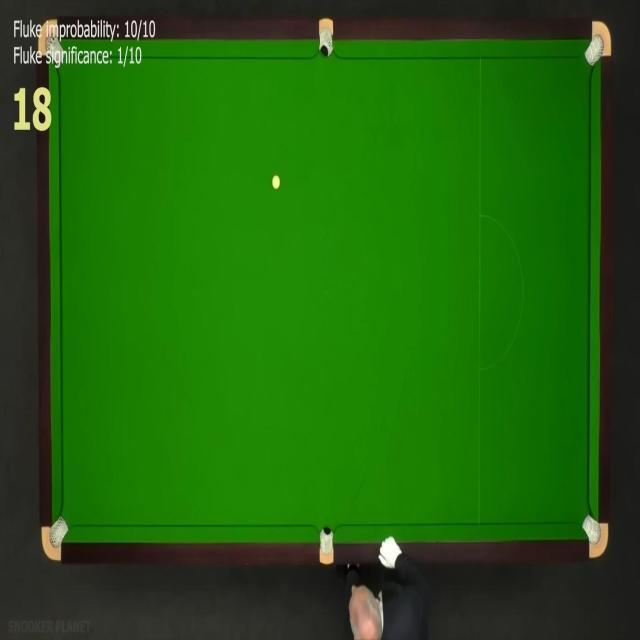Ball: (272, 174, 280, 190)
